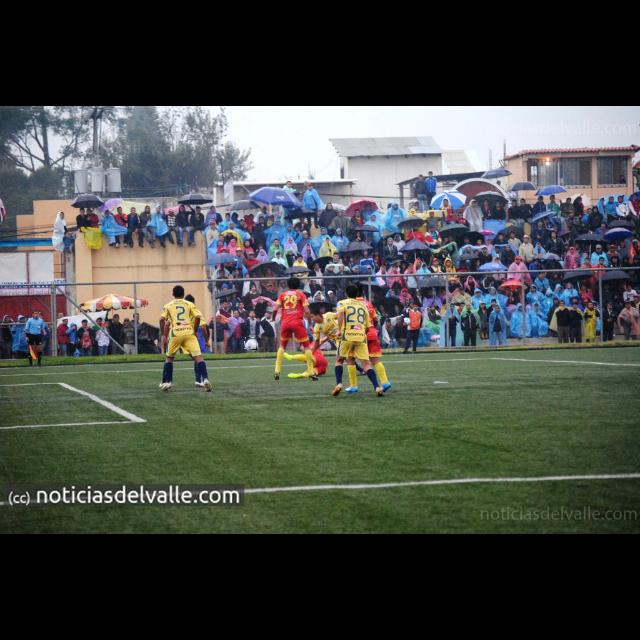Football: (245, 338, 257, 350)
